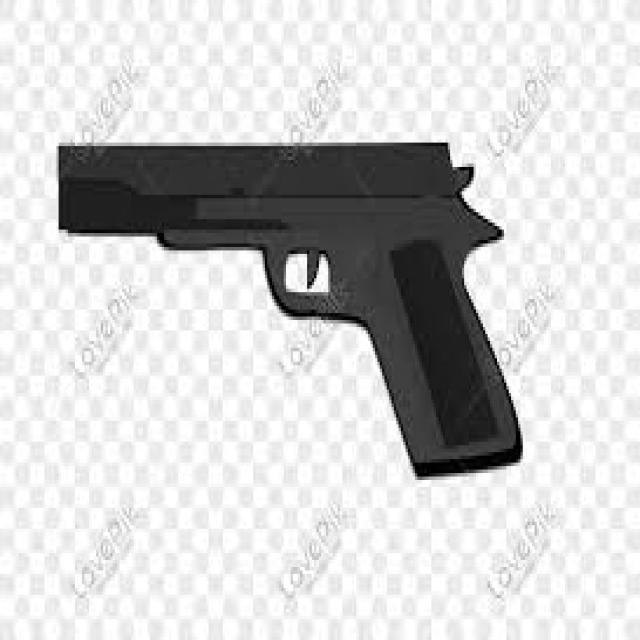gun: (56, 139, 523, 477)
